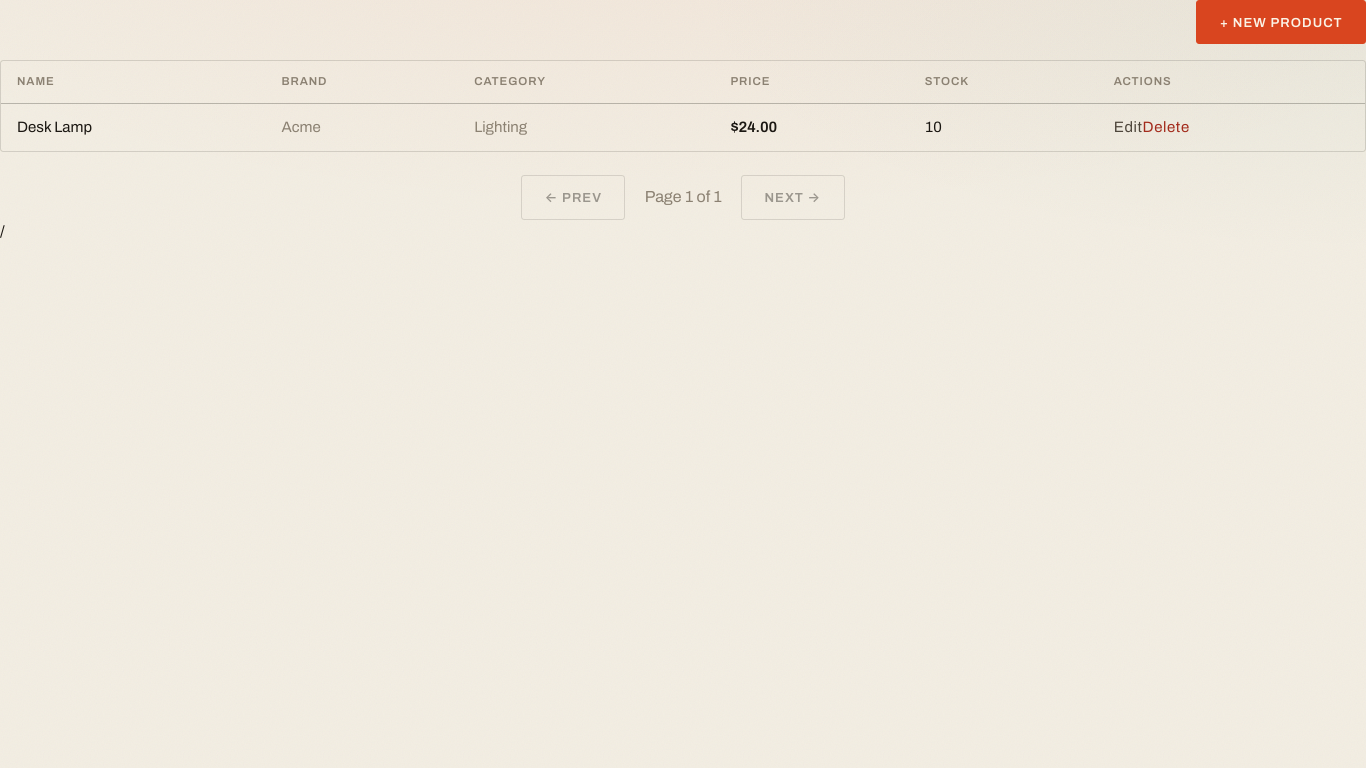
Scenario: AdminProductsPage › closes the edit form on cancel
Expected: the cell "Desk Lamp" is shown, [1,104,265,151]
Step 1. Click the button "Edit" → (1128, 128), box [1114,116,1143,139]
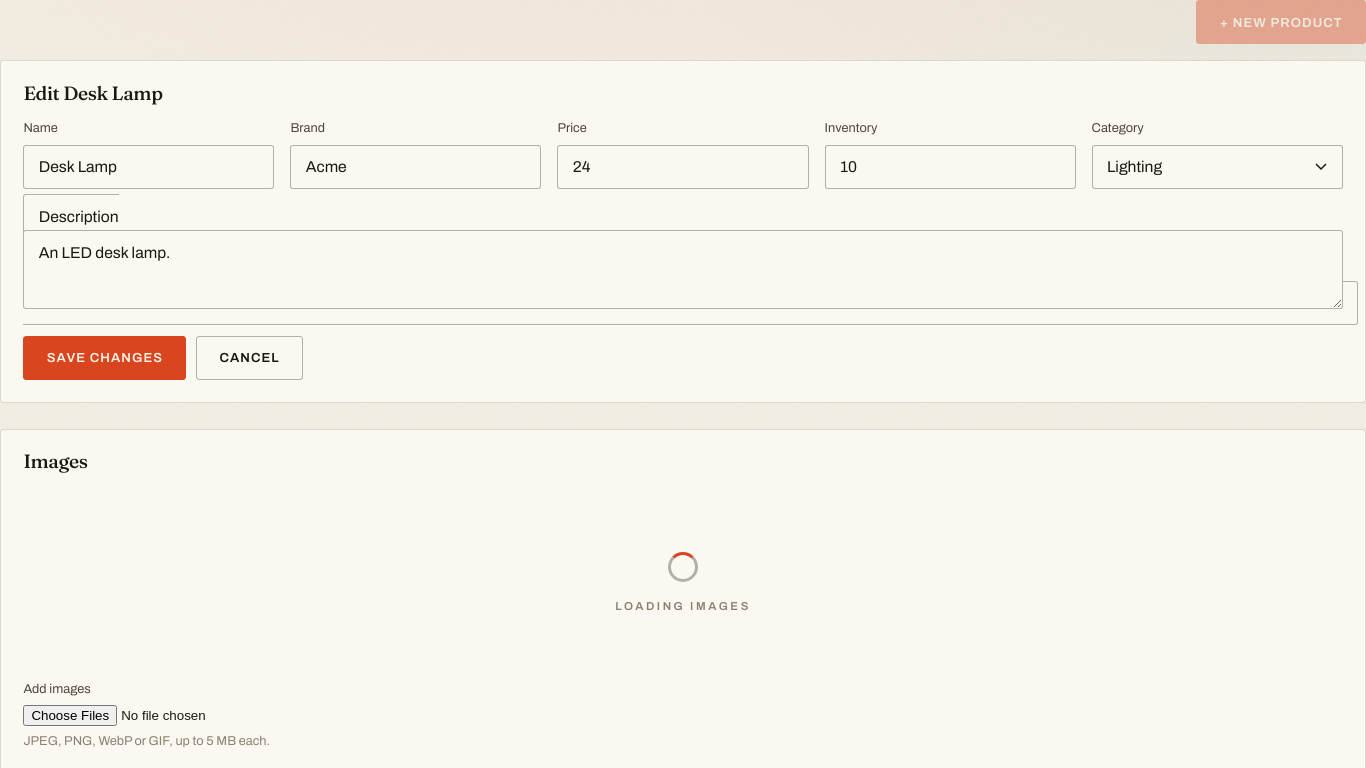
Step 2. Click the button "Cancel" → (250, 358), box [196,336,303,380]
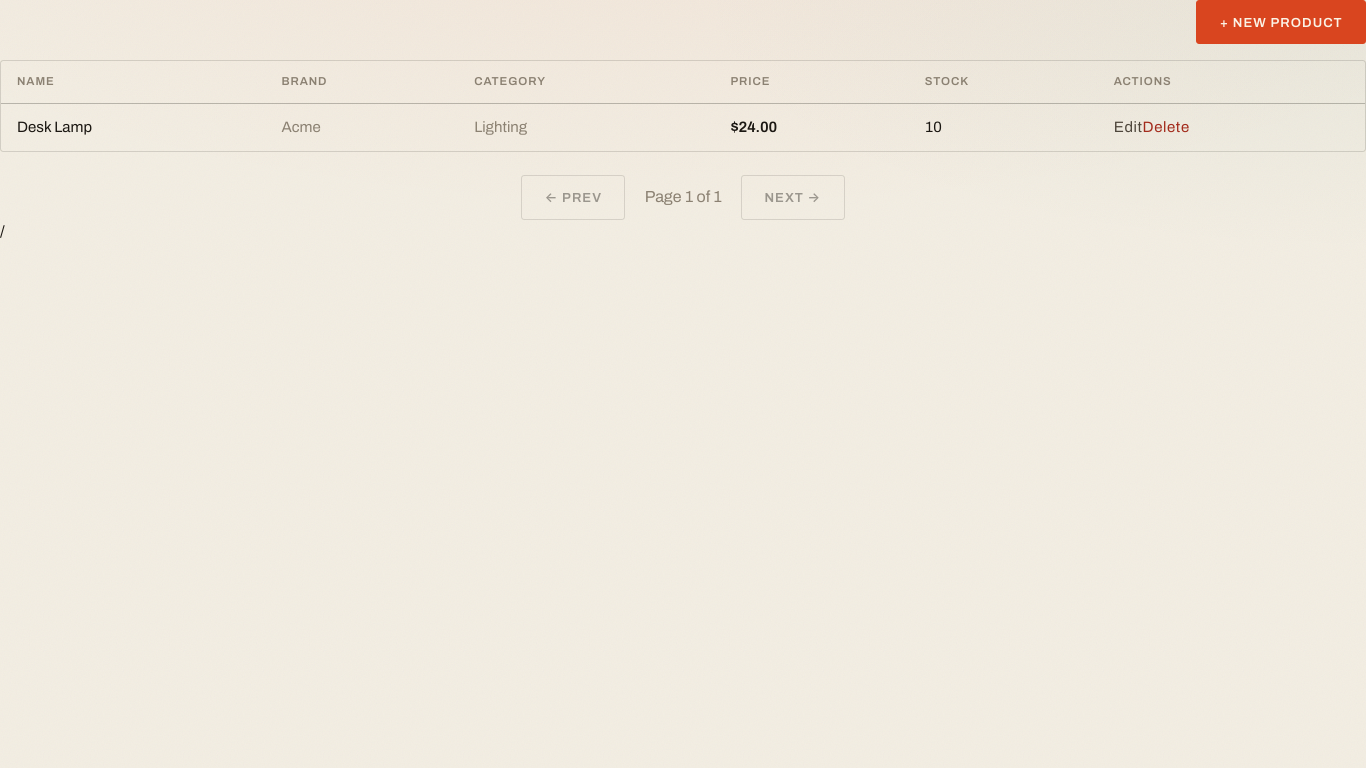
Expected: the heading "Edit Desk Lamp" is gone
